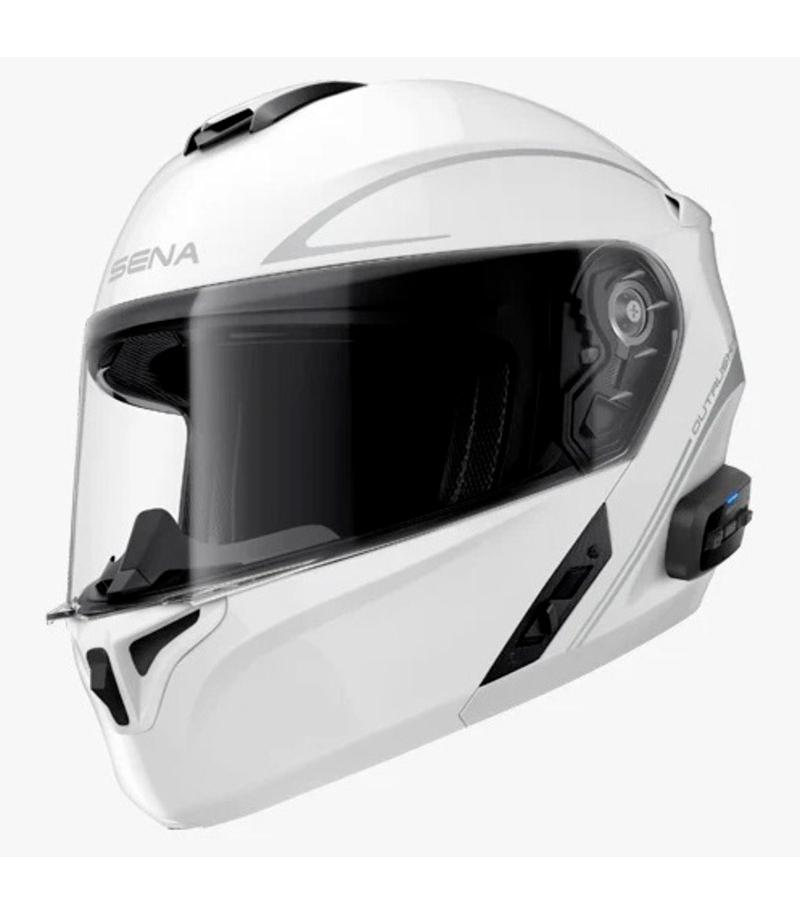Helmet: (48, 74, 744, 829)
